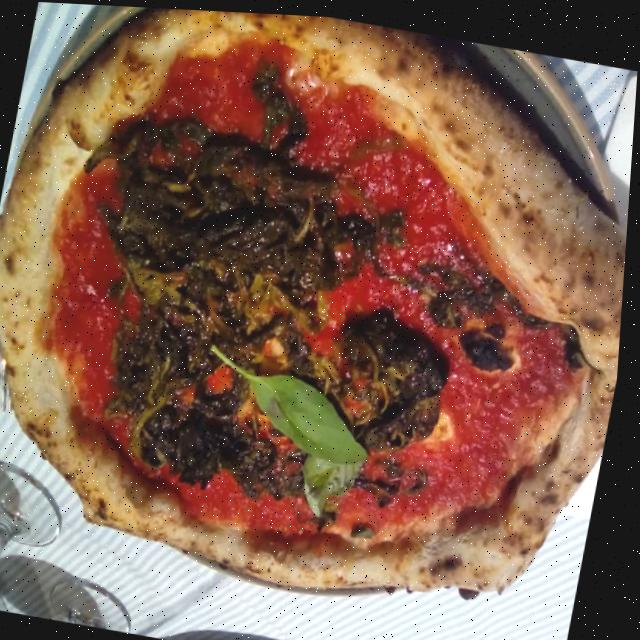basil: (198, 339, 390, 466), (298, 440, 371, 520), (354, 512, 391, 547)
pizza: (0, 0, 640, 629)
